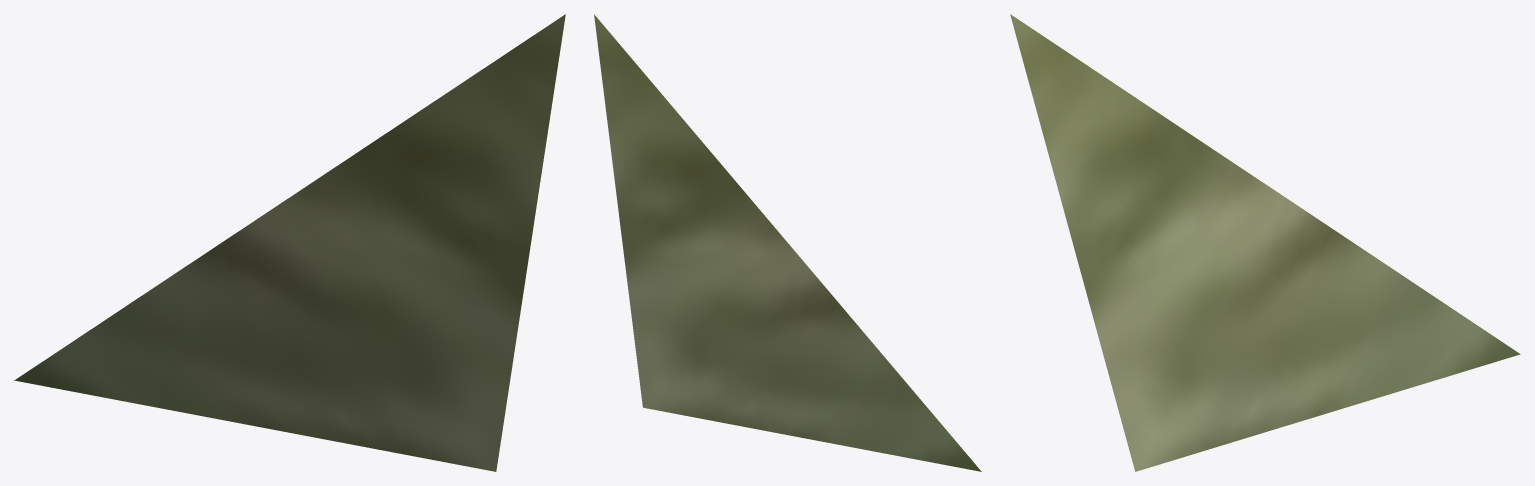
The picture shows the model from 3 angles, left to right: view 1: azimuth 30°, elevation 25°; view 2: azimuth 210°, elevation 25°; view 3: azimuth 270°, elevation 25°; orthographic projection. The views are drawn at different scales.
Size of the model in its own units: 0.2941 by 0.5338 by 0.5395.
Materials: 1 (1 with a texture image).
